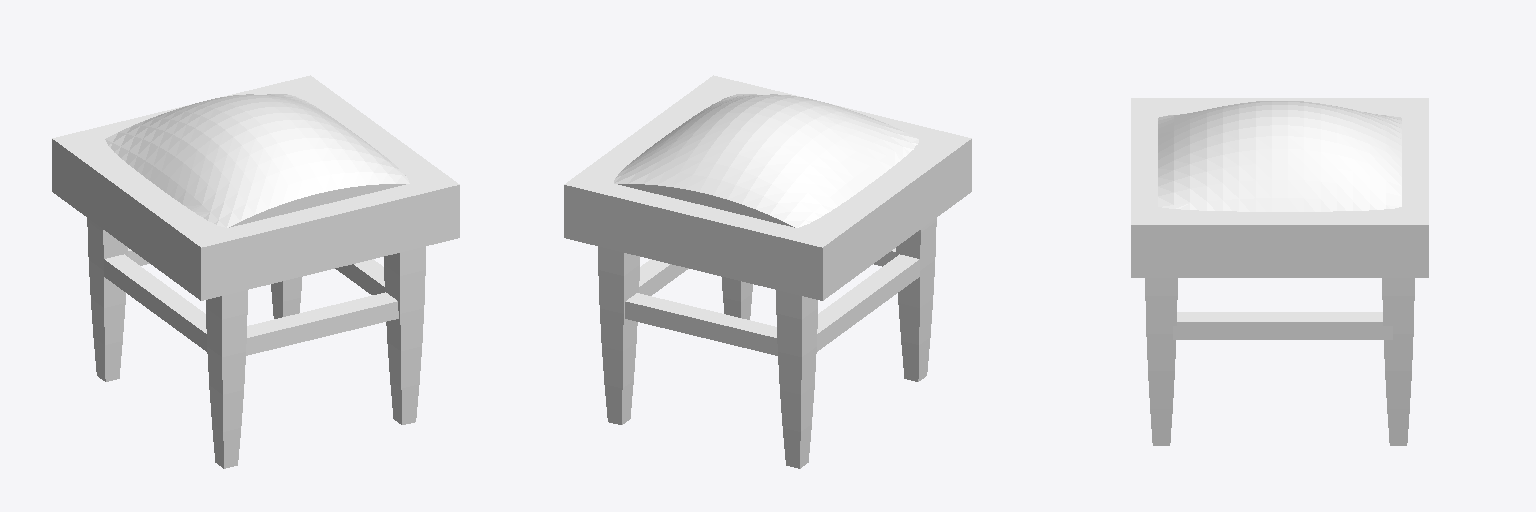
Rendered from CTYL.obj.
The picture shows the model from 3 angles: view 1: azimuth 30°, elevation 25°; view 2: azimuth 150°, elevation 25°; view 3: azimuth 270°, elevation 25°; orthographic projection.
Visible parts, largest first — view 1: Box002; view 2: Box002; view 3: Box002.
Part boxes in pixels (bbox=[...]): Box002: bbox=[52, 75, 459, 468]; Box002: bbox=[564, 75, 971, 468]; Box002: bbox=[1131, 98, 1428, 445].
Bounding box in the file's own units: 75.61 × 79.93 × 75.61.